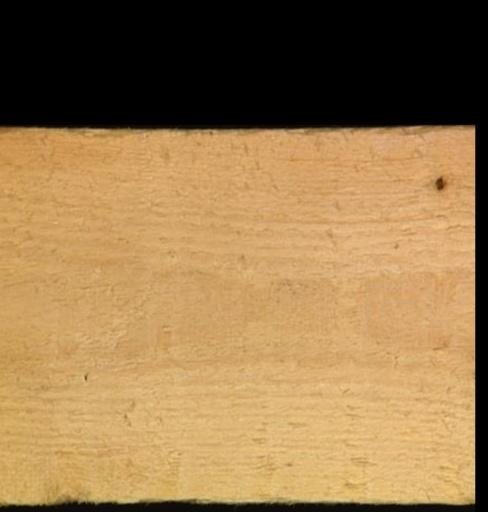small_knot: (430, 170, 448, 195)
wave: (61, 127, 169, 144)
